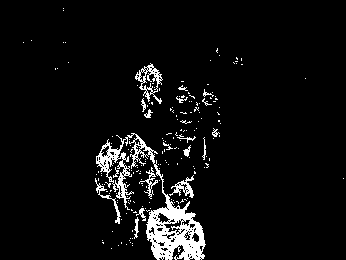person: (93, 134, 128, 237), (130, 134, 155, 239), (197, 85, 226, 173), (172, 77, 199, 153), (159, 133, 190, 195)
